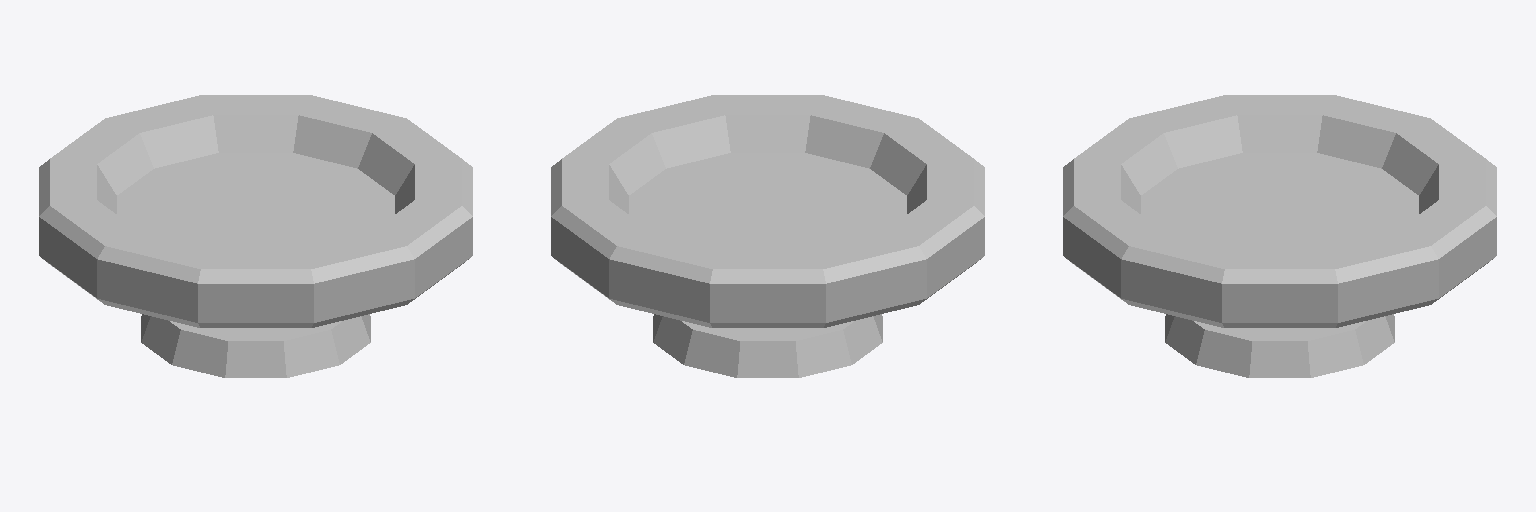
Rendered from pastry_stand.obj.
3 renders of one model, left to right at view 1: azimuth 30°, elevation 25°; view 2: azimuth 150°, elevation 25°; view 3: azimuth 270°, elevation 25°, orthographic.
Parts seen in each view (by area): view 1: pastry_stand; view 2: pastry_stand; view 3: pastry_stand.
Part boxes in pixels (x1,y1,x2,y2): pastry_stand: (39, 95, 472, 377); pastry_stand: (551, 95, 984, 377); pastry_stand: (1063, 95, 1496, 377).
Bounding box in the file's own units: 0.8 × 0.3 × 0.8.